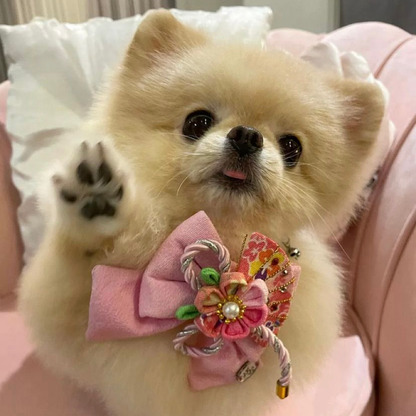Pomeranian: (44, 17, 393, 394)
